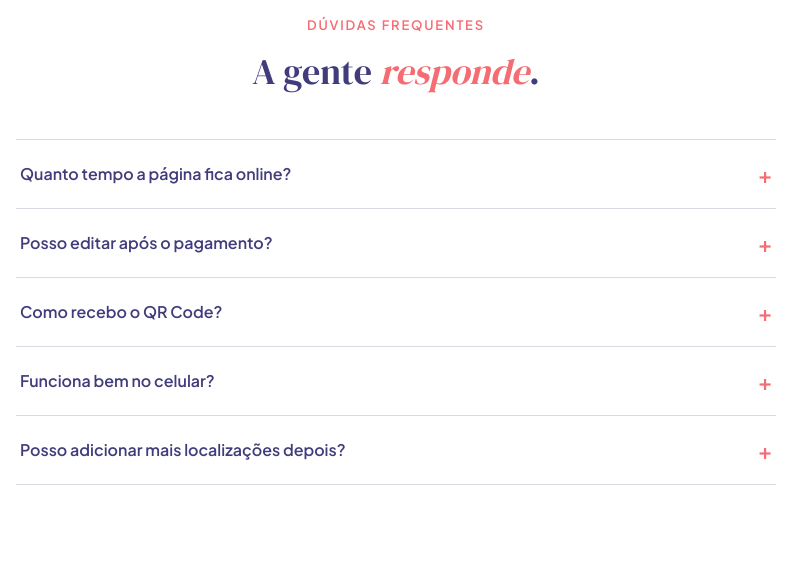
Test case: FAQ › should close the previous item when a new one is opened
This screenshot has width=793, height=573.
Click the button "Quanto tempo a página fica online? +": (156, 174) x1=16 y1=140 x2=776 y2=208
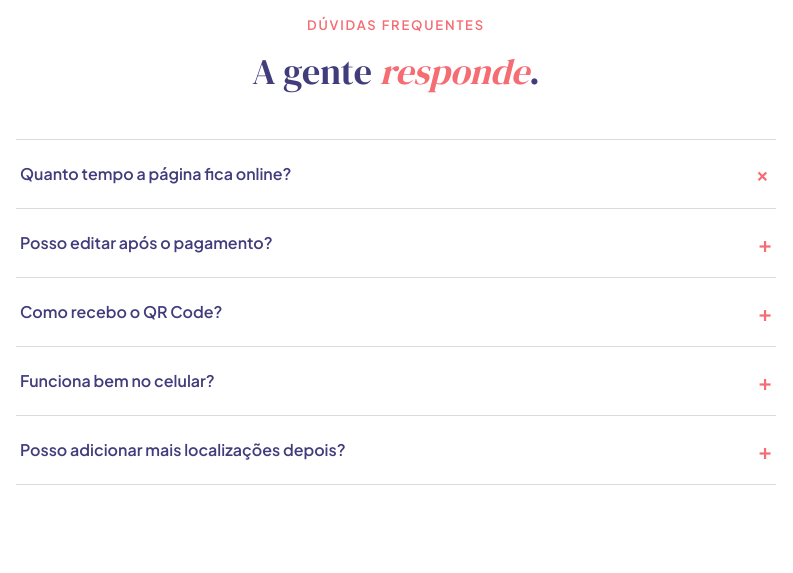
Now the button "Quanto tempo a página fica online? +" is expanded, box x1=16 y1=140 x2=776 y2=208
Click the button "Posso editar após o pagamento? +": (146, 243) x1=16 y1=209 x2=776 y2=277
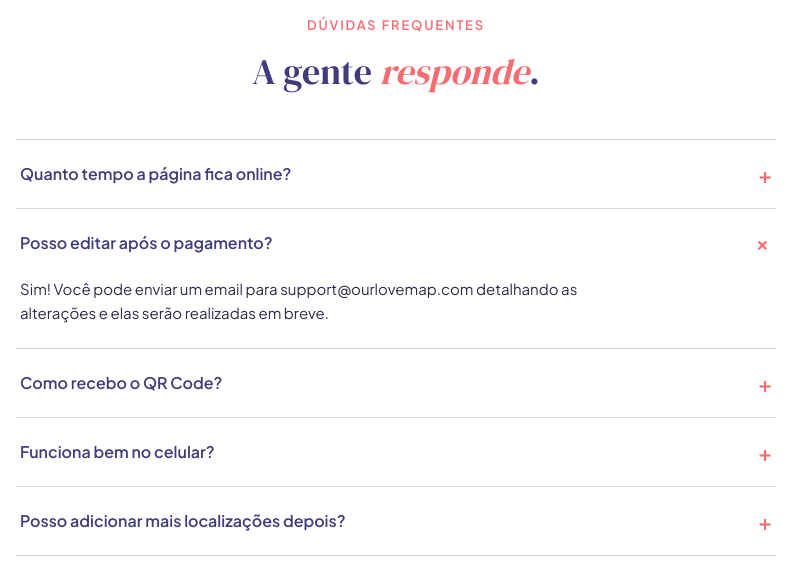
Now the button "Quanto tempo a página fica online? +" is collapsed, box x1=16 y1=140 x2=776 y2=208
Now the button "Posso editar após o pagamento? +" is expanded, box x1=16 y1=209 x2=776 y2=277
